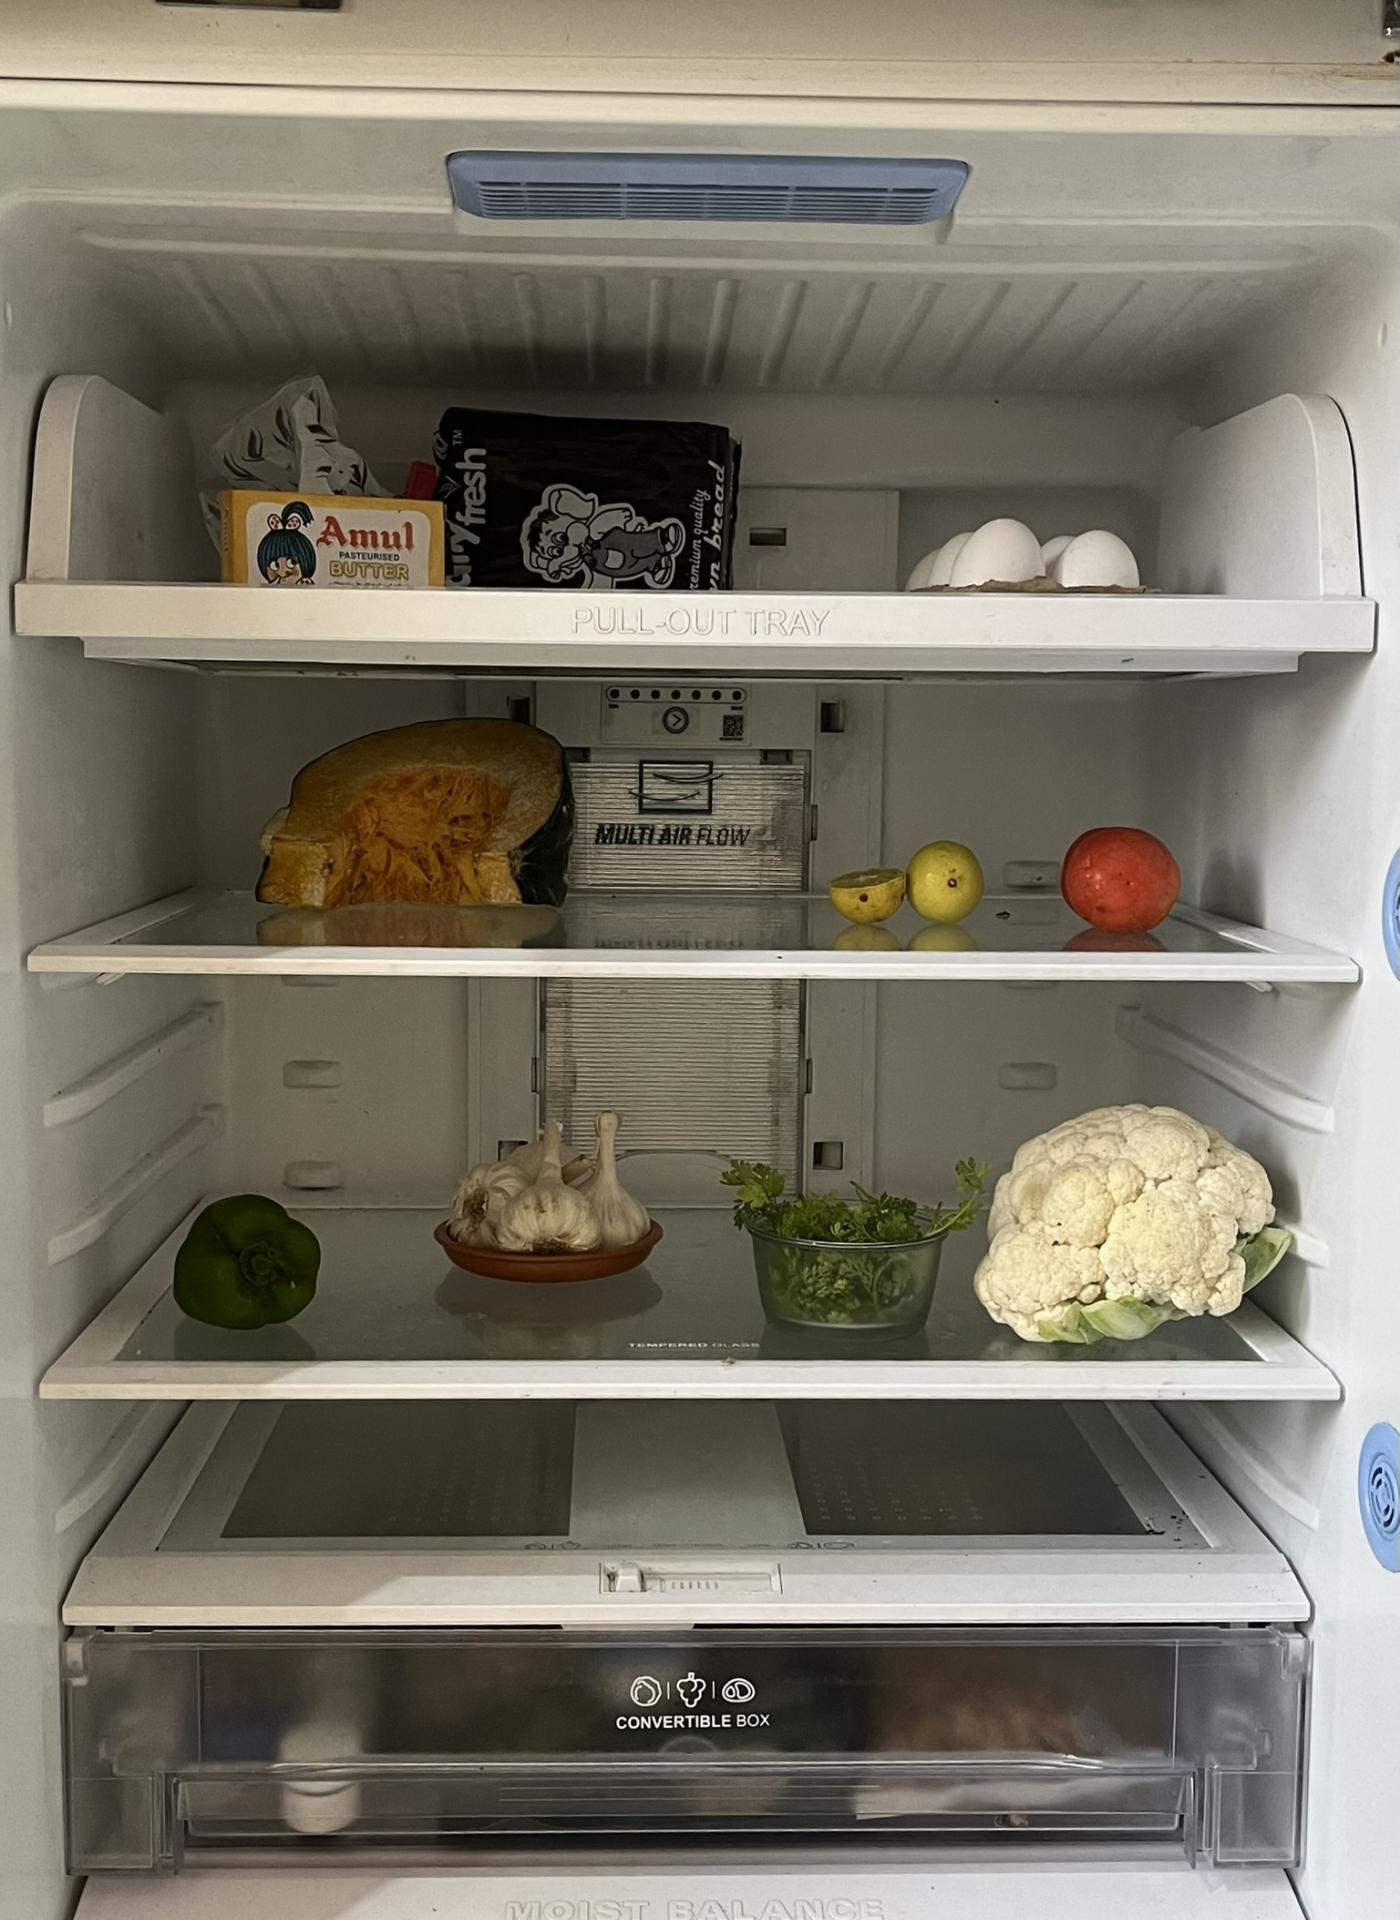bread: (210, 379, 726, 604)
butter: (207, 493, 443, 593)
capsicum: (168, 1191, 318, 1337)
cauliflower: (977, 1091, 1282, 1358)
coriander: (740, 1145, 935, 1330)
egg: (905, 519, 1145, 587)
garlic: (453, 1122, 652, 1258)
lemon: (830, 832, 980, 914)
pumpkin: (259, 713, 574, 909)
tomato: (1062, 820, 1178, 929)
